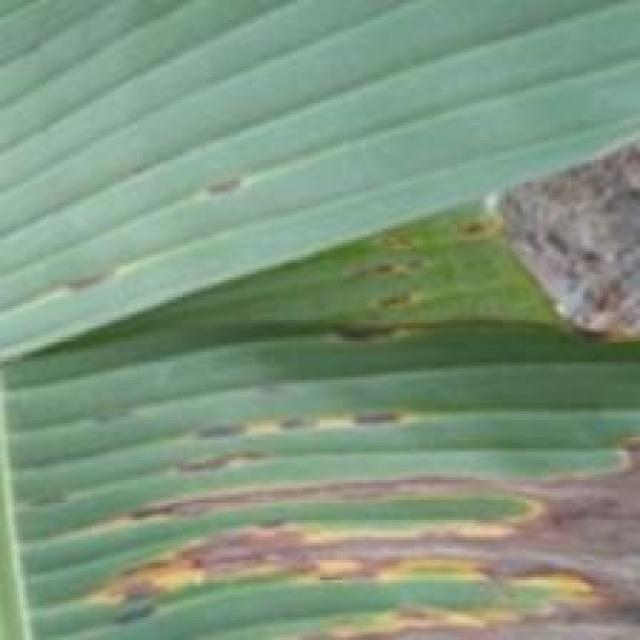Early_leaf_spot: (71, 460, 640, 640), (160, 404, 430, 473), (0, 234, 134, 308), (190, 153, 294, 224)
